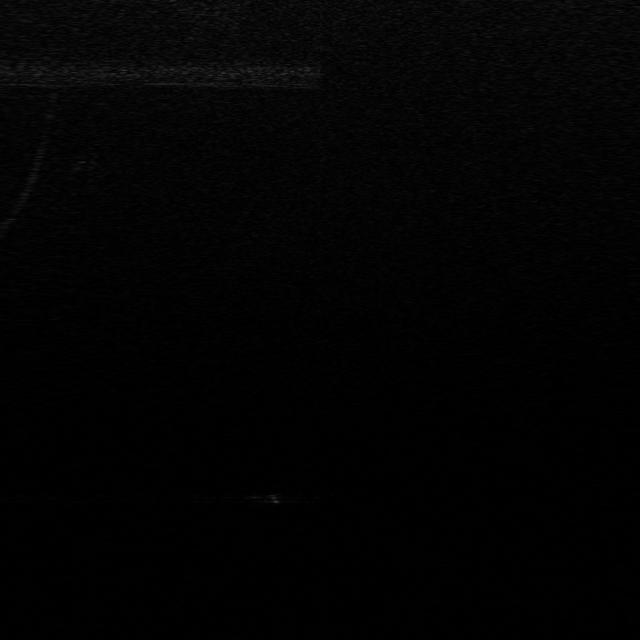ball: (261, 492, 287, 507)
